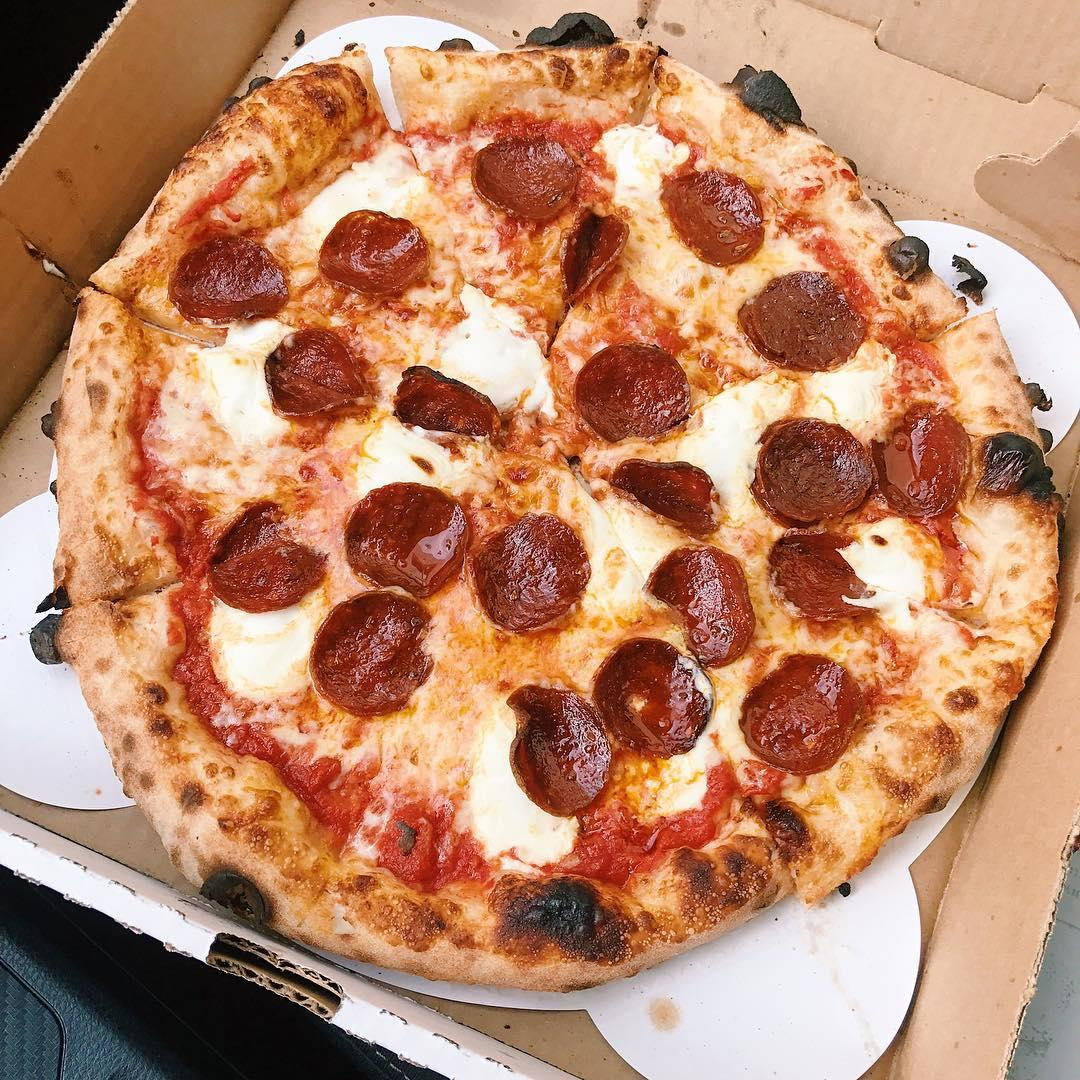Pepperoni: (340, 471, 480, 609), (498, 677, 620, 827), (737, 642, 873, 772), (199, 489, 335, 617), (309, 589, 437, 722), (749, 404, 874, 538), (466, 507, 593, 633), (592, 637, 720, 762), (642, 541, 765, 671), (871, 393, 988, 525), (734, 264, 878, 371), (573, 334, 703, 448), (754, 527, 888, 632), (650, 162, 773, 275), (258, 321, 384, 423), (463, 127, 593, 223), (167, 229, 293, 328), (309, 205, 427, 304), (602, 454, 723, 543), (390, 364, 507, 446), (557, 197, 628, 311)
Pizza: (57, 35, 1065, 997)
